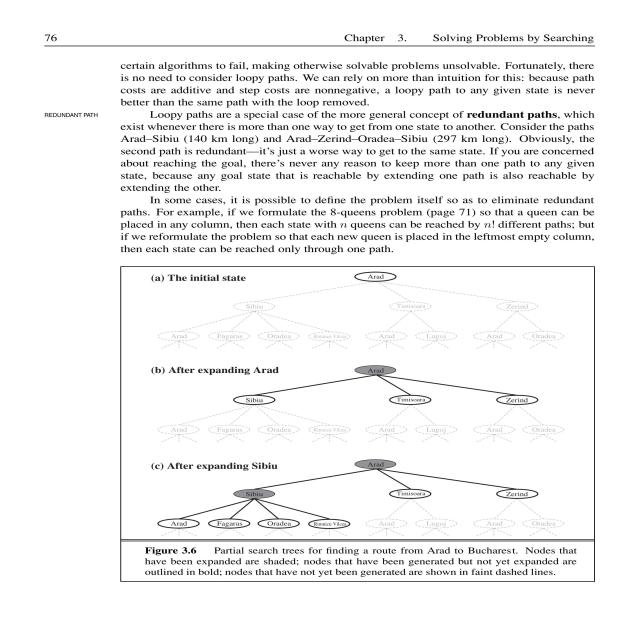diagram: (120, 265, 633, 586)
